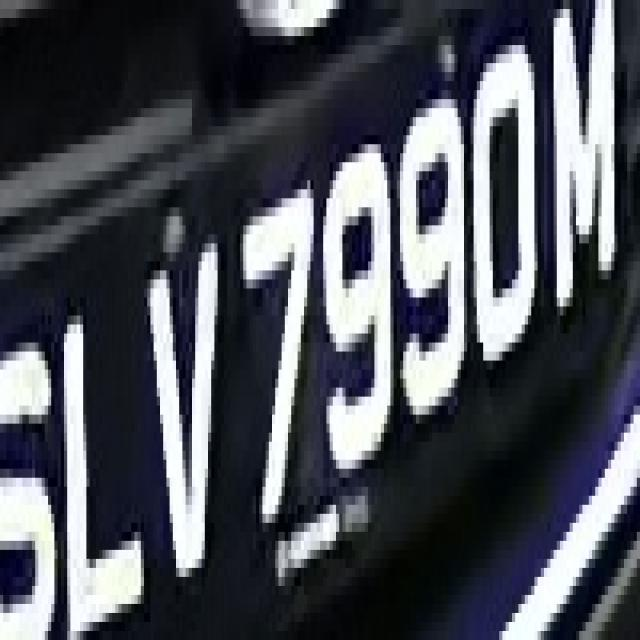0: (464, 27, 547, 370)
7: (230, 153, 314, 541)
9: (314, 117, 403, 487), (394, 90, 467, 442)
L: (51, 297, 147, 640)
M: (540, 0, 627, 315)
V: (137, 243, 230, 604)
